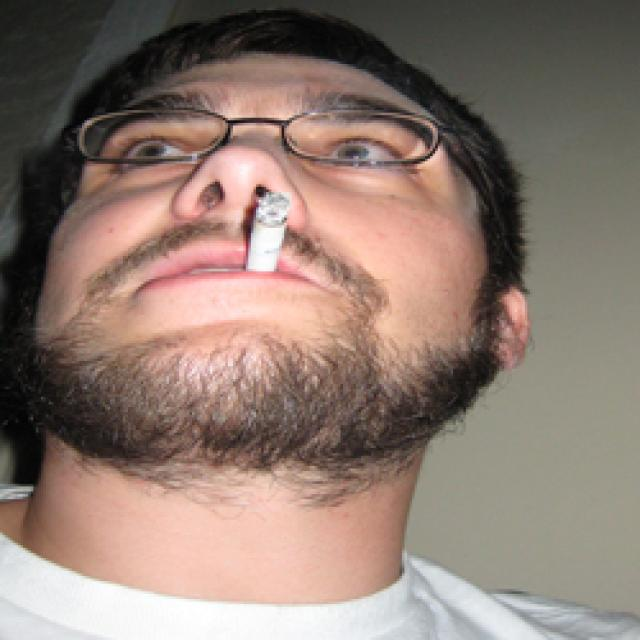Smooking: (242, 185, 290, 282)
